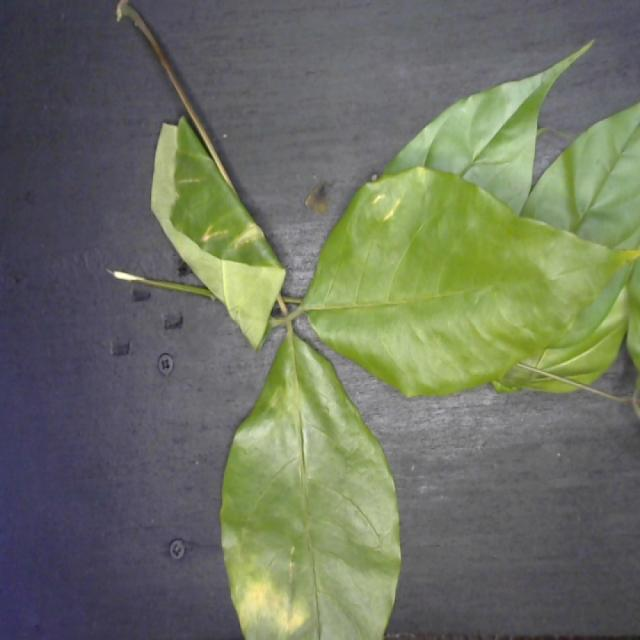biodegradable: (148, 34, 640, 640)
